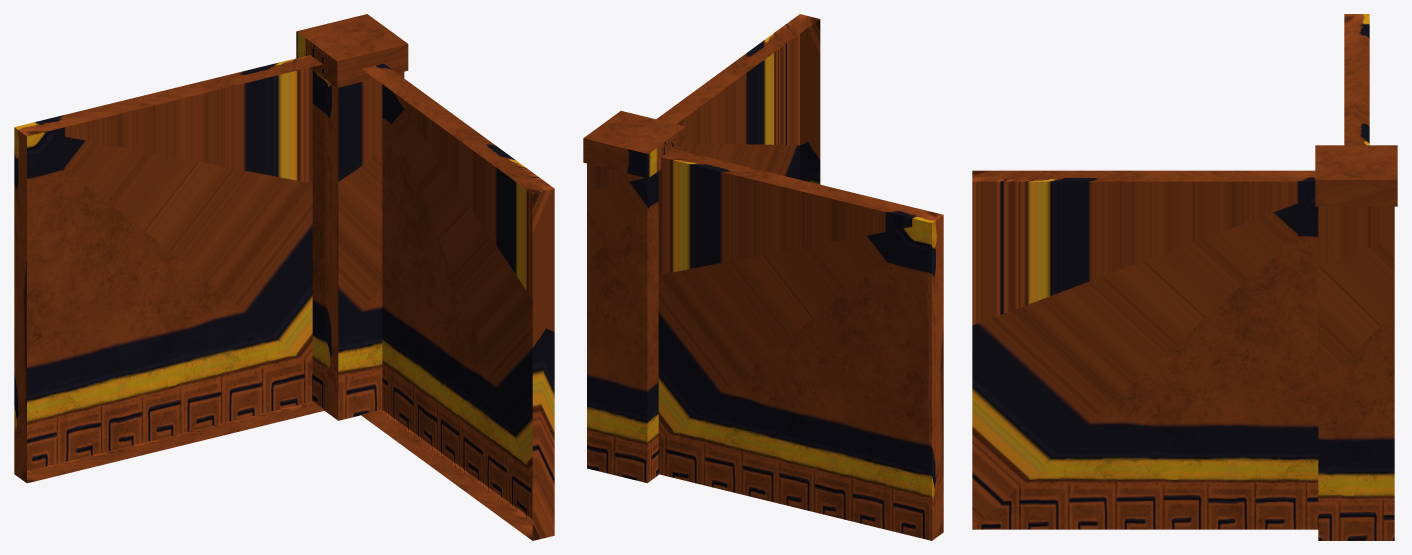
File: Corner-OUT.fbx
3 views of the same model, side by side, from view 1: azimuth 30°, elevation 25°; view 2: azimuth 150°, elevation 25°; view 3: azimuth 270°, elevation 25° (orthographic). The views are drawn at different scales.
Parts seen in each view (by area): view 1: CornerUp Low.002; view 2: CornerUp Low.002; view 3: CornerUp Low.002.
Boxes of the visible parts, x1,y1,x2,y2 form: CornerUp Low.002: (14, 14, 554, 540); CornerUp Low.002: (583, 14, 943, 540); CornerUp Low.002: (972, 14, 1397, 540).
Bounding box in the file's own units: 247 × 233 × 247.
